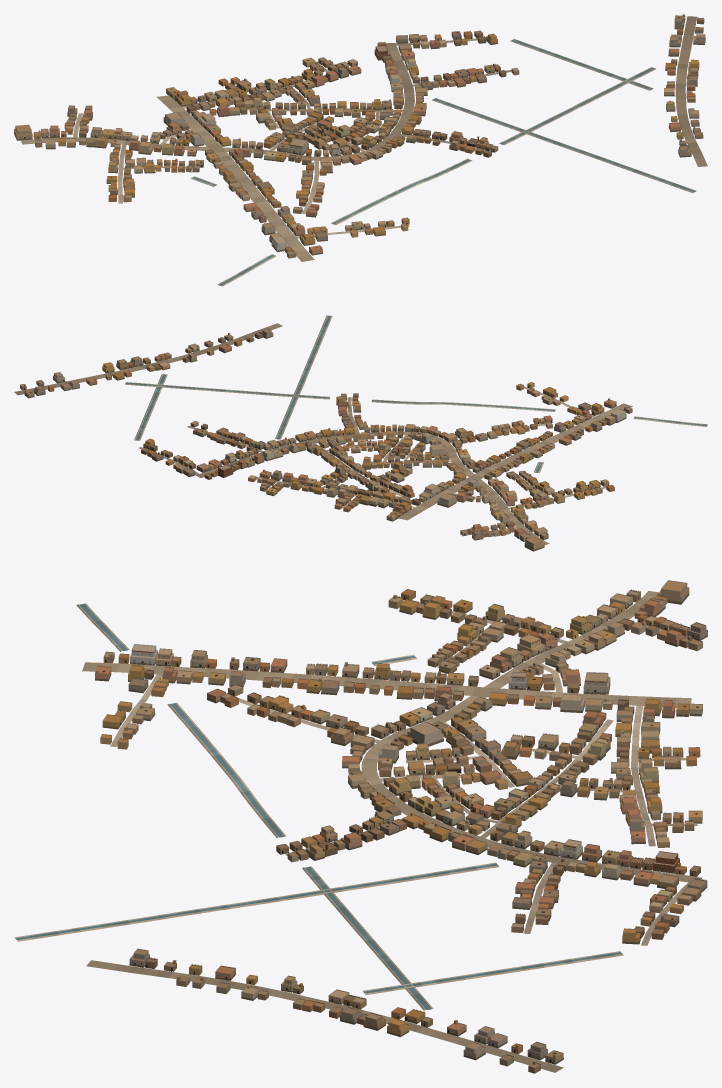
The model's file is uruk_quarter_13.glb.
3 renders of one model, top to bottom at view 1: azimuth 30°, elevation 25°; view 2: azimuth 150°, elevation 25°; view 3: azimuth 270°, elevation 25°, orthographic. The views are drawn at different scales.
Visible parts, largest first — view 1: uruk_quarter_13; view 2: uruk_quarter_13; view 3: uruk_quarter_13.
Part boxes in pixels (box(x1,y1,x2,y2)): uruk_quarter_13: box(14, 14, 707, 286); uruk_quarter_13: box(14, 315, 707, 551); uruk_quarter_13: box(14, 580, 707, 1073).
Bounding box in the file's own units: 733 × 17.42 × 455.
16 materials, 5 textured.
